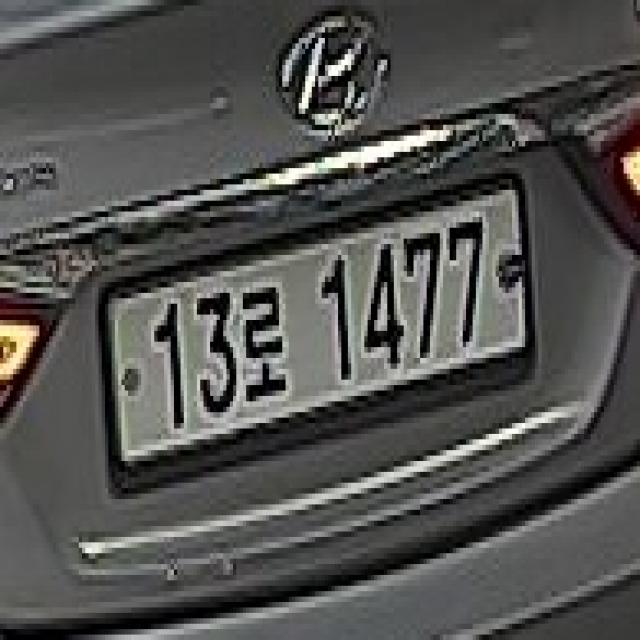1: (151, 288, 190, 456), (318, 260, 361, 407)
3: (190, 271, 243, 456)
4: (364, 239, 407, 396)
7: (401, 217, 446, 385), (447, 200, 492, 368)
license_plate: (92, 163, 541, 515)
lo: (240, 271, 292, 434)
